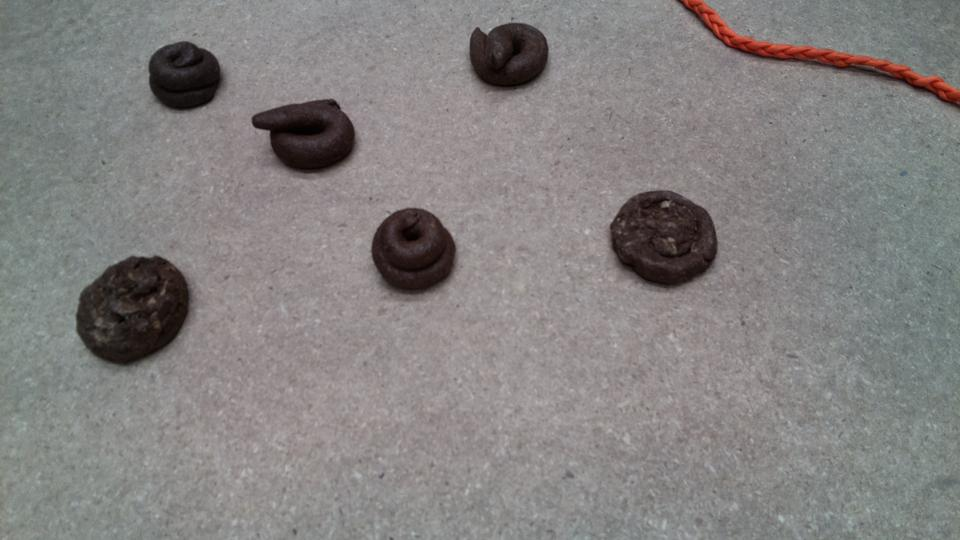poop: (72, 251, 193, 370), (606, 187, 722, 291), (250, 93, 357, 175), (370, 204, 462, 293), (466, 19, 553, 92), (143, 39, 225, 114)
rope: (689, 2, 960, 111)
